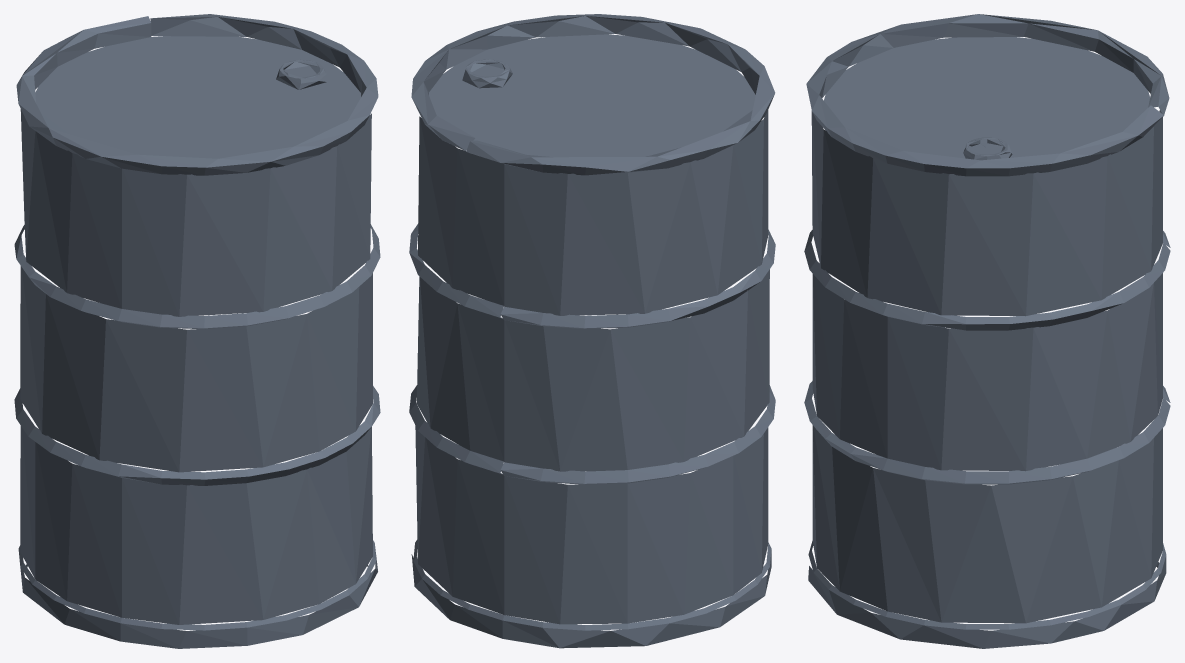
The model's file is barrel_metal.glb.
3 views of the same model, side by side, from view 1: azimuth 30°, elevation 25°; view 2: azimuth 150°, elevation 25°; view 3: azimuth 270°, elevation 25° (orthographic).
Parts seen in each view (by area): view 1: barrel_metal; view 2: barrel_metal; view 3: barrel_metal.
Part boxes in pixels (<box>): barrel_metal: <box>14,14,380,648</box>; barrel_metal: <box>409,14,775,648</box>; barrel_metal: <box>804,14,1170,648</box>.
Bounding box in the file's own units: 0.5992 × 0.8811 × 0.6035.
